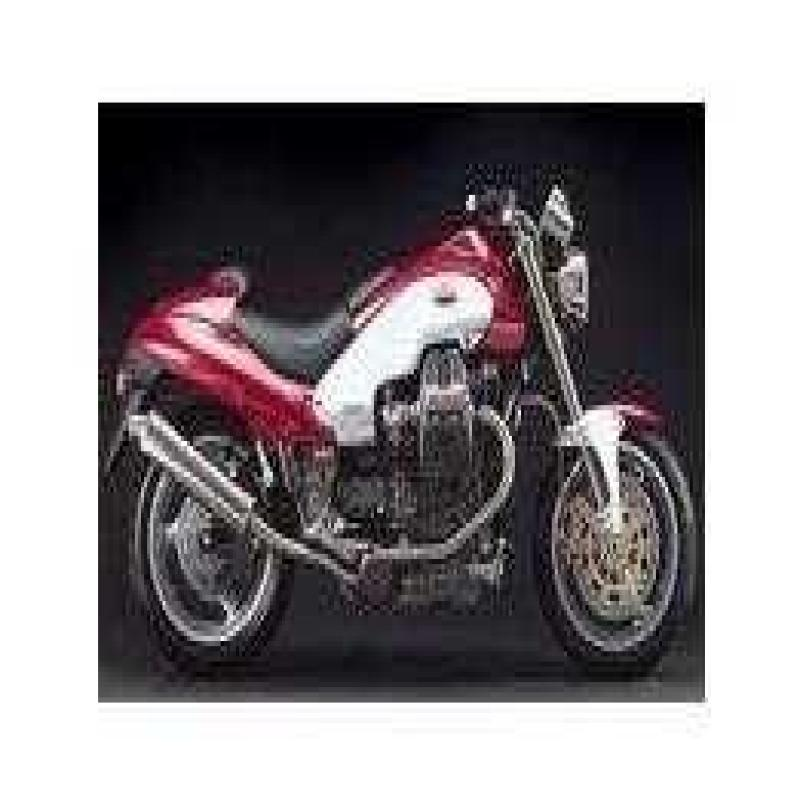bike: (105, 133, 705, 689)
